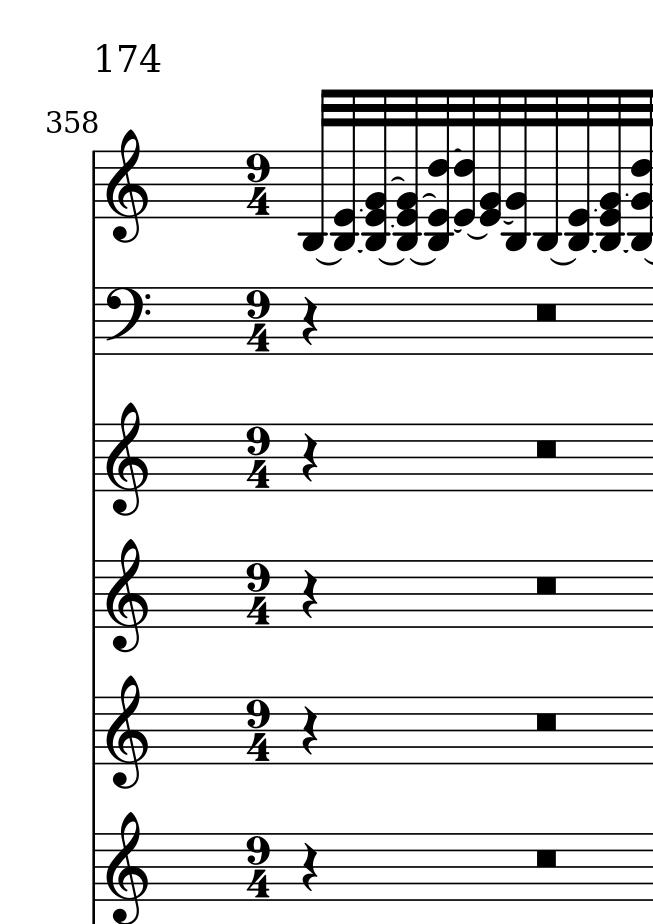1: (95, 41, 112, 73)
3: (45, 109, 62, 135)
32_-3: (300, 87, 333, 254), (532, 86, 563, 255)
32_-3_0: (333, 86, 360, 253), (565, 85, 592, 252)
32_-3_2: (503, 86, 530, 253)
32_0_6: (452, 88, 477, 226)
4: (244, 867, 272, 901), (244, 731, 272, 764), (245, 321, 272, 354), (245, 185, 272, 217), (245, 457, 271, 490), (245, 595, 271, 627), (138, 43, 162, 74)
5: (63, 109, 80, 136)
7: (117, 42, 139, 72)
8: (80, 110, 102, 136)
9: (245, 286, 272, 322), (245, 424, 272, 458), (245, 560, 272, 594), (245, 833, 272, 867), (245, 151, 272, 184), (245, 697, 272, 730)
Fclef: (103, 285, 151, 357)
Gclef: (105, 401, 151, 519), (105, 538, 151, 655), (105, 674, 150, 792), (104, 811, 150, 924), (105, 127, 149, 244)
Rests4: (299, 840, 321, 894), (299, 431, 321, 484), (299, 567, 321, 620), (299, 703, 321, 756), (299, 295, 320, 348)
Single_barline: (87, 834, 102, 901), (87, 560, 101, 630), (87, 423, 101, 492), (87, 150, 101, 218), (87, 697, 101, 765), (87, 287, 101, 353)
Slur: (408, 257, 438, 268), (314, 257, 343, 267), (550, 257, 576, 267), (378, 257, 405, 266), (468, 232, 490, 240)
TimeSig: (244, 151, 273, 218), (244, 696, 272, 764), (244, 287, 272, 354), (244, 424, 272, 491), (244, 560, 272, 627), (244, 833, 271, 901)
